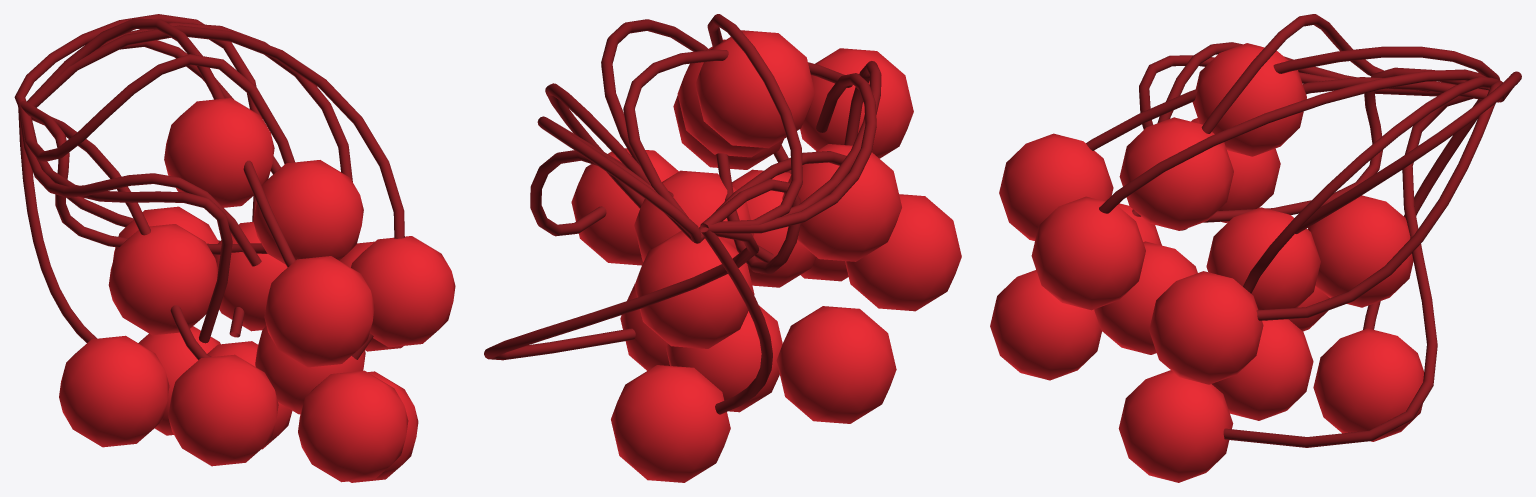
File: berry.glb
The picture shows the model from 3 angles, left to right: view 1: azimuth 30°, elevation 25°; view 2: azimuth 150°, elevation 25°; view 3: azimuth 270°, elevation 25°; orthographic projection. The views are drawn at different scales.
Parts seen in each view (by area): view 1: Berries, BerryStems; view 2: Berries, BerryStems; view 3: Berries, BerryStems.
Boxes of the visible parts, <box> form: Berries: <box>59,98,455,482</box>; BerryStems: <box>14,14,404,360</box>; Berries: <box>571,30,961,482</box>; BerryStems: <box>484,14,881,414</box>; Berries: <box>990,43,1424,482</box>; BerryStems: <box>1086,14,1521,447</box>.
Bounding box in the file's own units: 0.3425 × 0.412 × 0.485.
